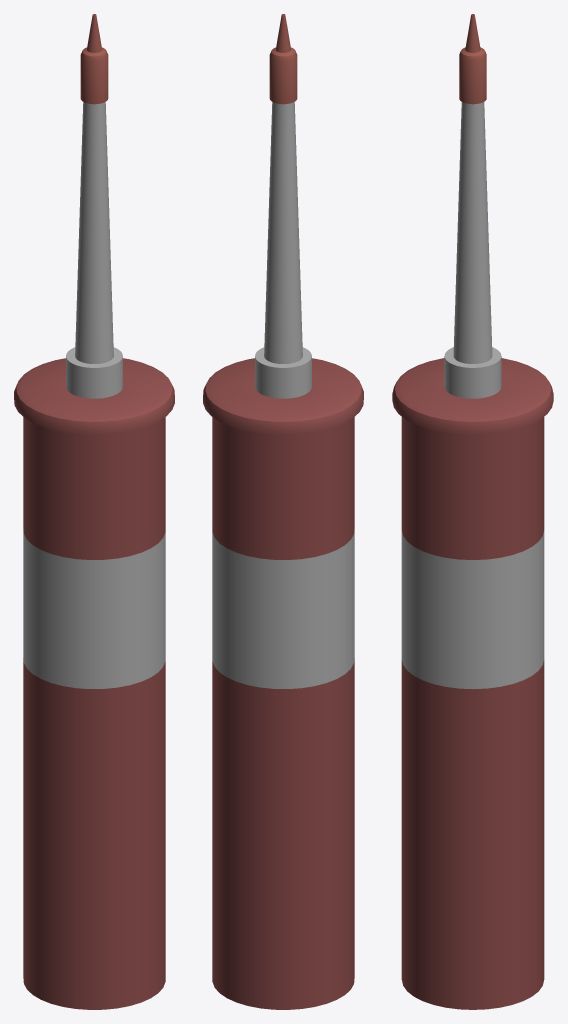
File: sealant.fbx
3 renders of one model, left to right at view 1: azimuth 30°, elevation 25°; view 2: azimuth 150°, elevation 25°; view 3: azimuth 270°, elevation 25°, orthographic.
Parts seen in each view (by area): view 1: Cylinder; view 2: Cylinder; view 3: Cylinder.
Part boxes in pixels (x1=…): Cylinder: x1=14, y1=14, x2=174, y2=1009; Cylinder: x1=203, y1=14, x2=363, y2=1009; Cylinder: x1=392, y1=14, x2=553, y2=1009.
Size of the model in its own units: 226 by 1496 by 226.
